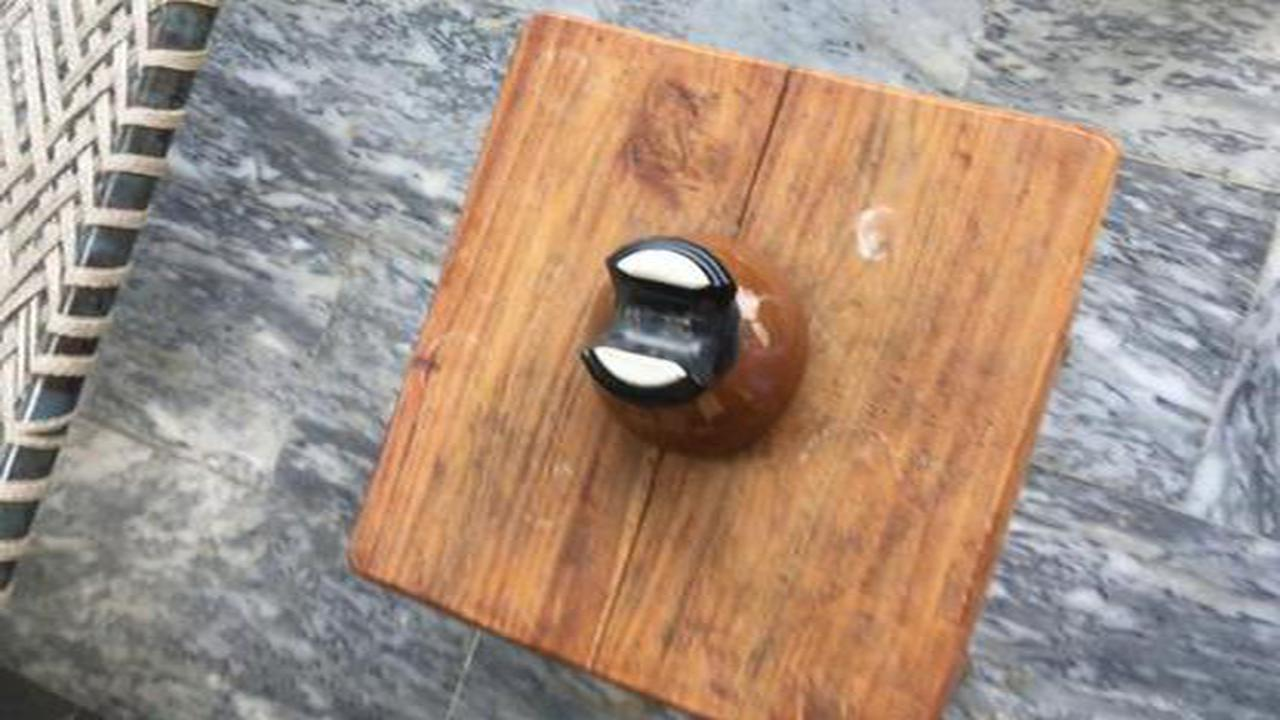insulator_pin: (570, 220, 828, 466)
